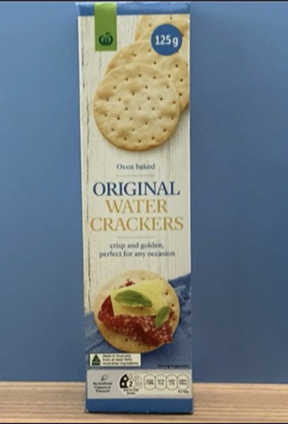crackers_150g: (86, 11, 189, 392)
